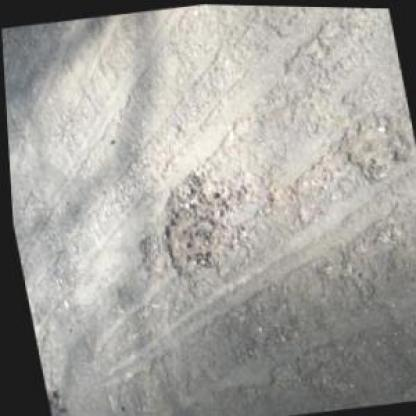pothole: (144, 156, 254, 284), (133, 232, 162, 270)
